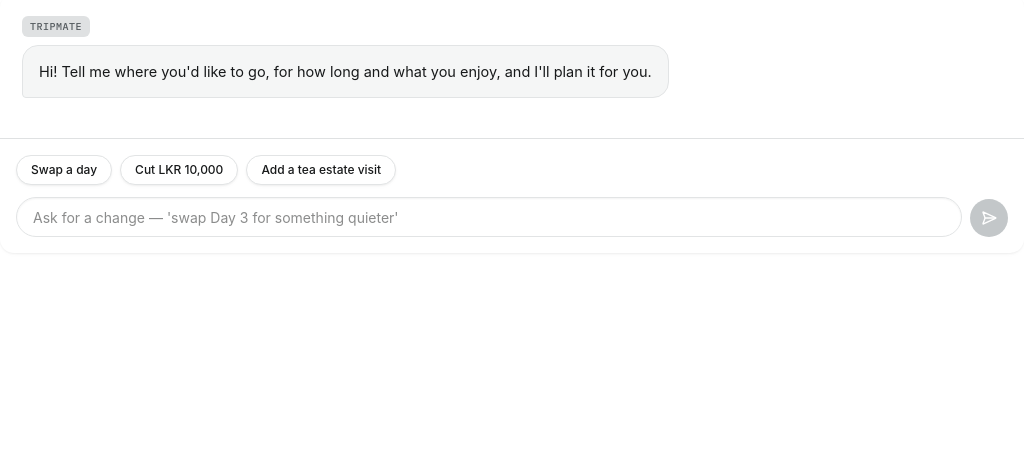
Test case: ChatPanel › shows a sent message and clears the input
In the text box named "Message": (489, 218) [16, 198, 962, 238], type "Plan a 5-day trip to Kandy and Ella"
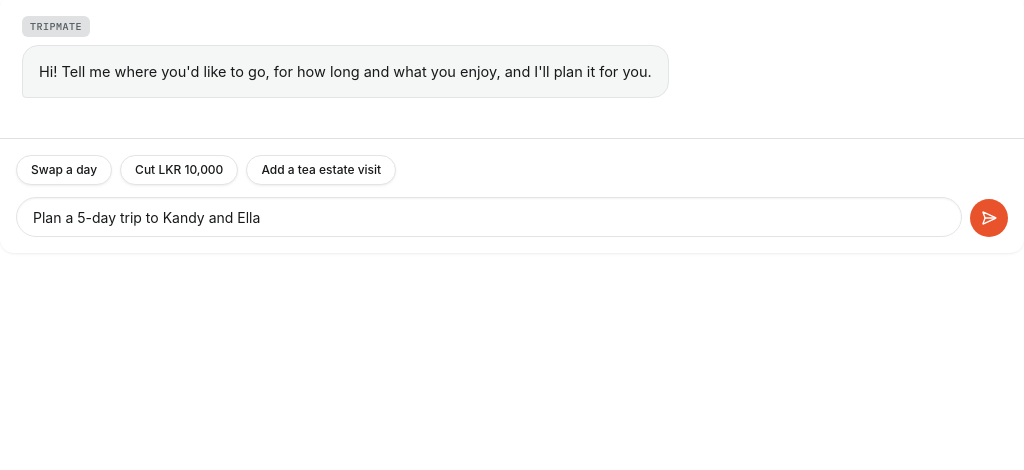
Press Enter in the text box named "Message", box [16, 198, 962, 238]
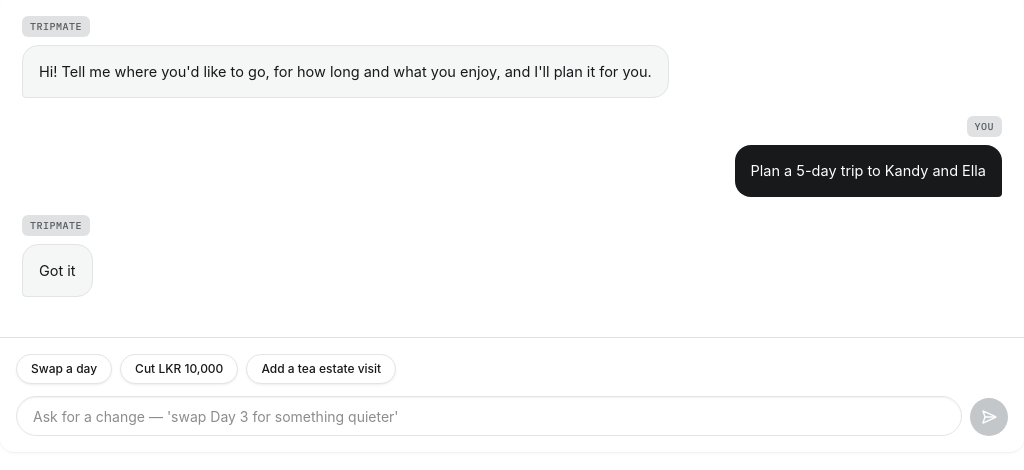
Expected: the text "Plan a 5-day trip to Kandy and Ella" is shown, [750, 160, 986, 183]
Expected: the text box named "Message" is empty, [16, 396, 962, 436]
